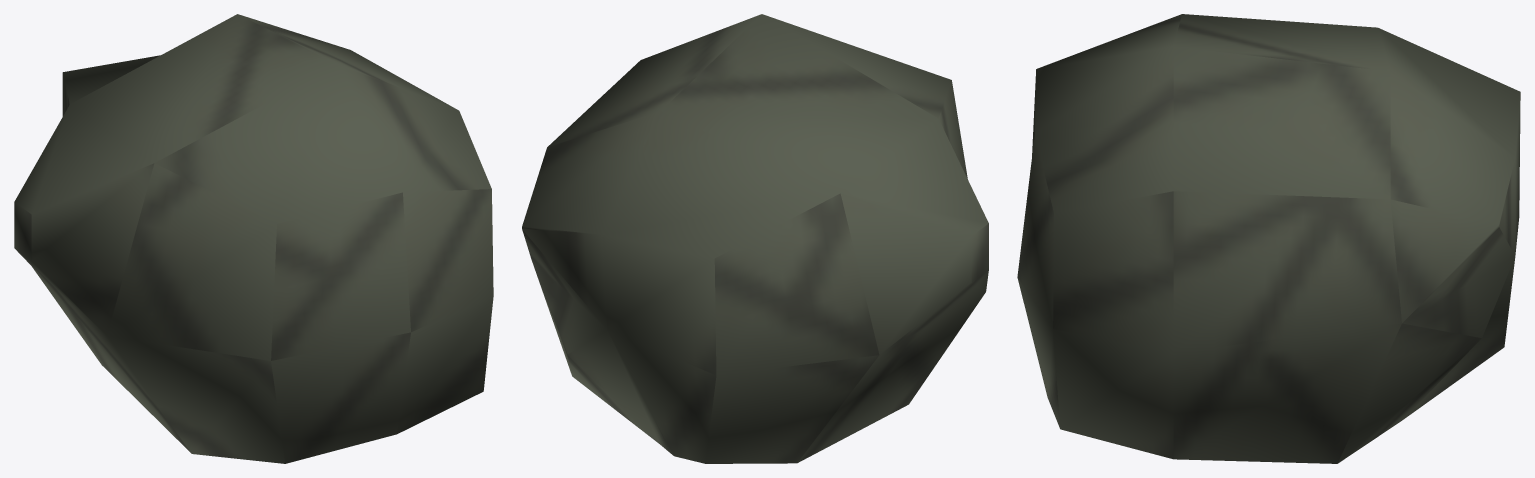
Rendered from Phase 1 Bamboo 2.fbx.
3 renders of one model, left to right at view 1: azimuth 30°, elevation 25°; view 2: azimuth 150°, elevation 25°; view 3: azimuth 270°, elevation 25°, orthographic. The views are drawn at different scales.
Visible parts, largest first — view 1: Phase 1 Bamboo 2; view 2: Phase 1 Bamboo 2; view 3: Phase 1 Bamboo 2.
Part boxes in pixels (x1=…): Phase 1 Bamboo 2: x1=14, y1=14, x2=493, y2=463; Phase 1 Bamboo 2: x1=522, y1=14, x2=988, y2=463; Phase 1 Bamboo 2: x1=1017, y1=14, x2=1520, y2=463.
Bounding box in the file's own units: 28.74 × 25.27 × 28.39.
